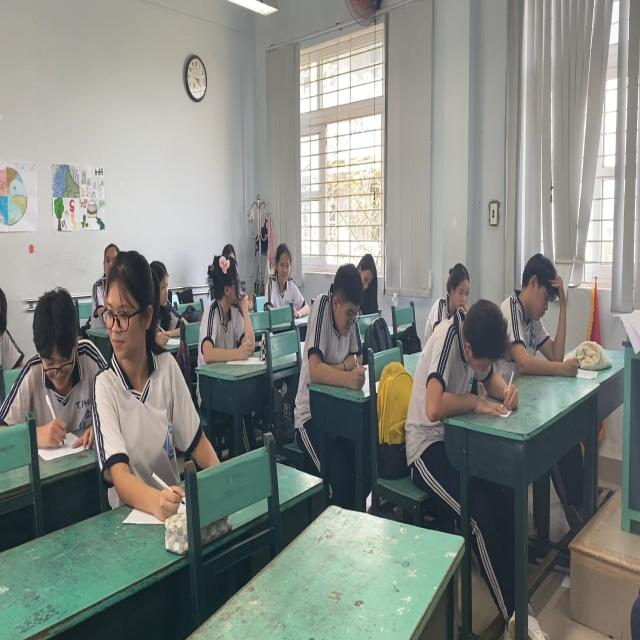cheating: (94, 245, 183, 487), (193, 252, 255, 365)
not_cheating: (14, 282, 103, 450), (426, 293, 512, 421), (506, 238, 576, 393), (306, 255, 360, 376), (263, 231, 304, 317), (428, 256, 479, 310), (350, 234, 380, 314)
